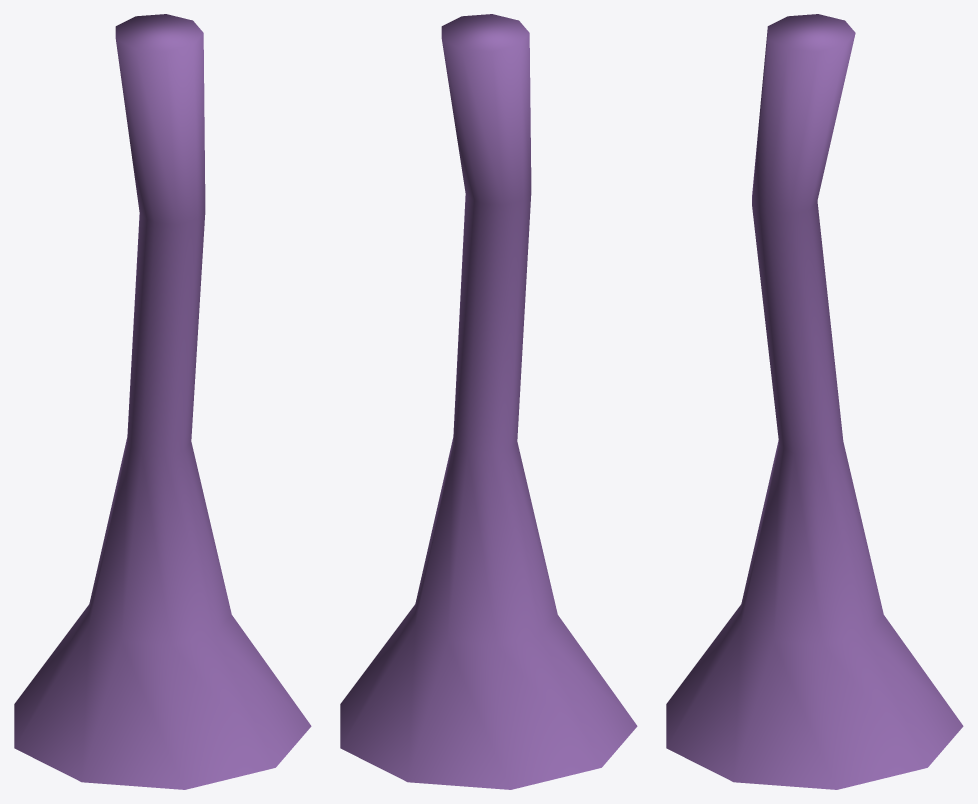
File: support.fbx
3 renders of one model, left to right at view 1: azimuth 30°, elevation 25°; view 2: azimuth 150°, elevation 25°; view 3: azimuth 270°, elevation 25°, orthographic.
Parts seen in each view (by area): view 1: support_02; view 2: support_02; view 3: support_02.
Part boxes in pixels (x1,y1,x2,y2): support_02: [14, 14, 311, 789]; support_02: [340, 14, 637, 789]; support_02: [666, 14, 963, 789].
Size of the model in its own units: 0.0783 by 0.1985 by 0.0771.
